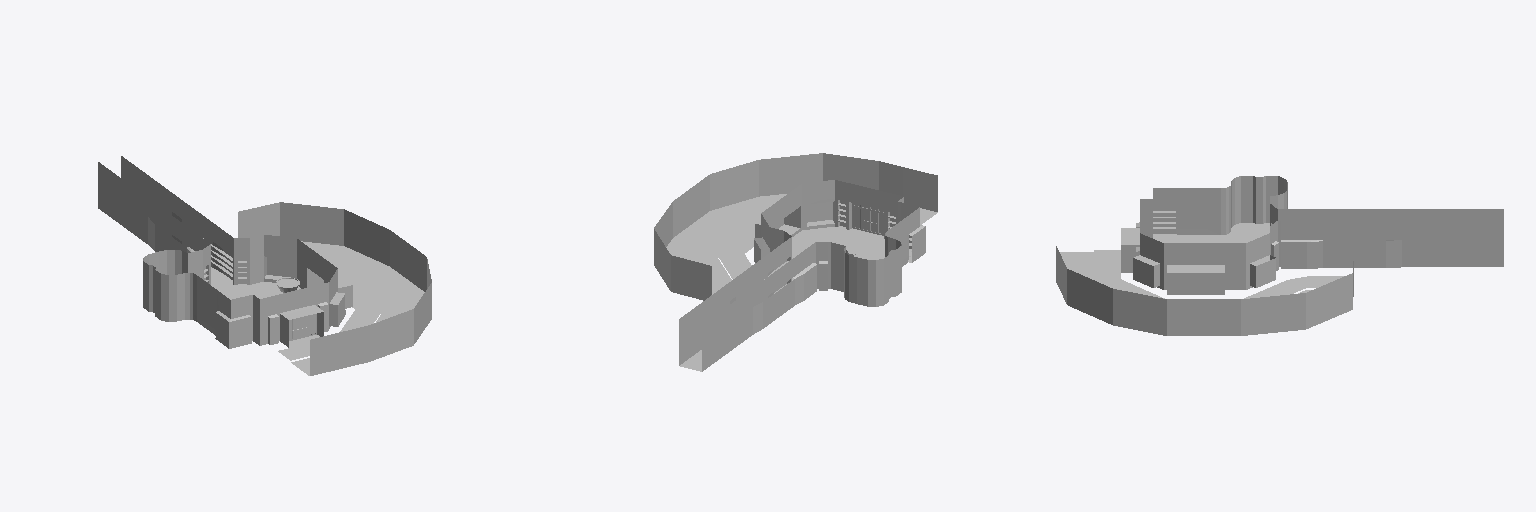
The model's file is lobby1.obj.
3 renders of one model, left to right at view 1: azimuth 30°, elevation 25°; view 2: azimuth 150°, elevation 25°; view 3: azimuth 270°, elevation 25°, orthographic.
Parts seen in each view (by area): view 1: frontend_w_frontend_w_None_frontenda_bmp, frontend_w_frontend_w_None_frontendc_bmp, frontend_w_frontend_w_None; view 2: frontend_w_frontend_w_None_frontenda_bmp, frontend_w_frontend_w_None_frontendc_bmp, frontend_w_frontend_w_None; view 3: frontend_w_frontend_w_None_frontenda_bmp, frontend_w_frontend_w_None_frontendc_bmp, frontend_w_frontend_w_None.
Boxes of the visible parts, box(x1,y1,x2,y2) form: frontend_w_frontend_w_None_frontenda_bmp: box(98, 156, 352, 348); frontend_w_frontend_w_None_frontendc_bmp: box(238, 202, 431, 375); frontend_w_frontend_w_None: box(267, 241, 424, 375); frontend_w_frontend_w_None_frontenda_bmp: box(679, 180, 925, 371); frontend_w_frontend_w_None_frontendc_bmp: box(654, 153, 937, 300); frontend_w_frontend_w_None: box(666, 194, 937, 294); frontend_w_frontend_w_None_frontenda_bmp: box(1134, 176, 1503, 289); frontend_w_frontend_w_None_frontendc_bmp: box(1056, 246, 1353, 335); frontend_w_frontend_w_None: box(1060, 228, 1343, 298).
Bounding box in the file's own units: 81.42 × 16.53 × 138.